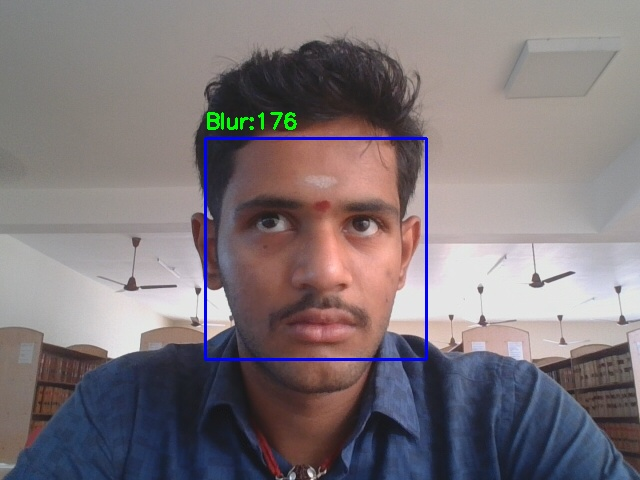real: (205, 138, 426, 359)
